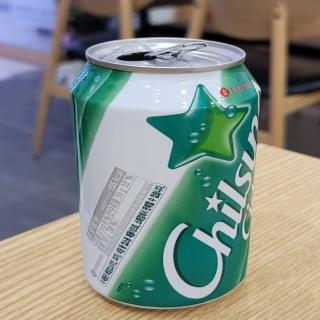cocacola: (65, 37, 263, 309)
